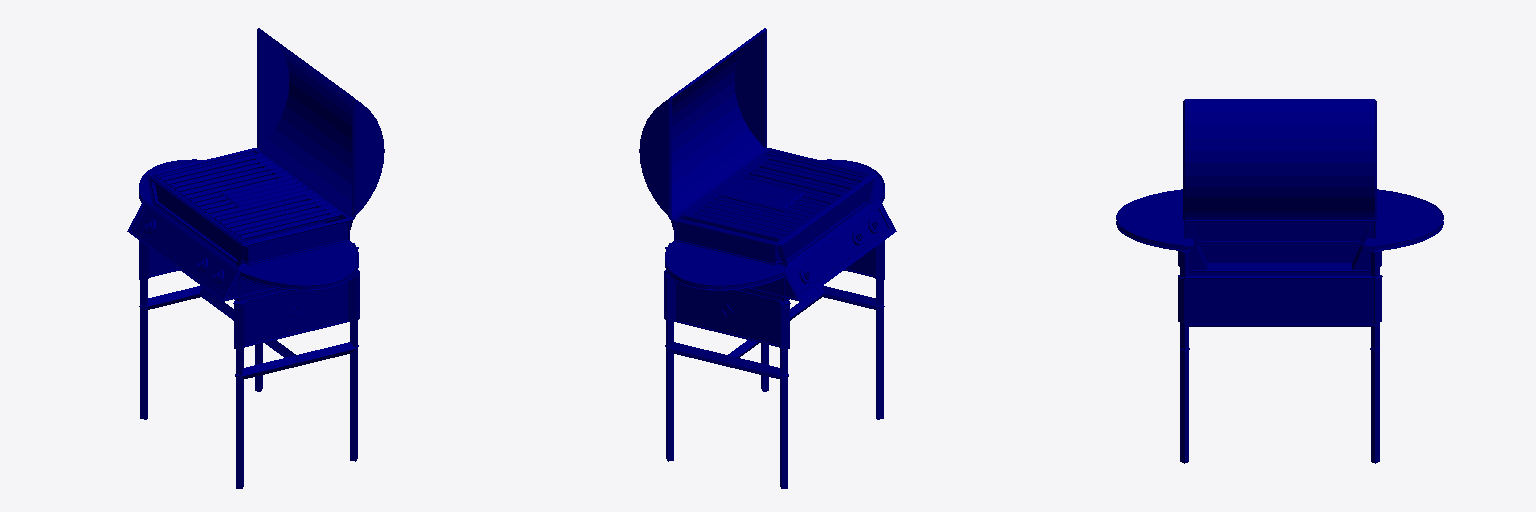
File: Barbeque.obj
The picture shows the model from 3 angles: view 1: azimuth 30°, elevation 25°; view 2: azimuth 150°, elevation 25°; view 3: azimuth 270°, elevation 25°; orthographic projection.
Parts seen in each view (by area): view 1: Mesh305 Barbeque1 Barbeque_1_1 Model, Mesh306 Barbeque1 Barbeque_1_1 Model, Mesh307 Barbeque1 Barbeque_1_1 Model, Mesh1 Group1 Barbeque1 Barbeque_1_1 Model, Mesh308 Barbeque1 Barbeque_1_1 Model, Mesh2 Group1 Barbeque1 Barbeque_1_1 Model; view 2: Mesh305 Barbeque1 Barbeque_1_1 Model, Mesh306 Barbeque1 Barbeque_1_1 Model, Mesh308 Barbeque1 Barbeque_1_1 Model, Mesh307 Barbeque1 Barbeque_1_1 Model, Mesh1 Group1 Barbeque1 Barbeque_1_1 Model, Mesh2 Group1 Barbeque1 Barbeque_1_1 Model; view 3: Mesh305 Barbeque1 Barbeque_1_1 Model, Mesh306 Barbeque1 Barbeque_1_1 Model, Mesh46 Group5 Barbeque1 Barbeque_1_1 Model.
Boxes of the visible parts, x1,y1,x2,y2 form: Mesh305 Barbeque1 Barbeque_1_1 Model: [131, 32, 384, 349]; Mesh306 Barbeque1 Barbeque_1_1 Model: [147, 286, 357, 461]; Mesh307 Barbeque1 Barbeque_1_1 Model: [140, 280, 147, 419]; Mesh1 Group1 Barbeque1 Barbeque_1_1 Model: [147, 174, 353, 266]; Mesh308 Barbeque1 Barbeque_1_1 Model: [236, 349, 243, 488]; Mesh2 Group1 Barbeque1 Barbeque_1_1 Model: [149, 148, 351, 216]; Mesh305 Barbeque1 Barbeque_1_1 Model: [639, 32, 892, 349]; Mesh306 Barbeque1 Barbeque_1_1 Model: [666, 286, 876, 461]; Mesh308 Barbeque1 Barbeque_1_1 Model: [876, 280, 883, 419]; Mesh307 Barbeque1 Barbeque_1_1 Model: [780, 349, 787, 488]; Mesh1 Group1 Barbeque1 Barbeque_1_1 Model: [766, 148, 876, 266]; Mesh2 Group1 Barbeque1 Barbeque_1_1 Model: [670, 148, 779, 245]; Mesh305 Barbeque1 Barbeque_1_1 Model: [1117, 102, 1442, 323]; Mesh306 Barbeque1 Barbeque_1_1 Model: [1180, 323, 1379, 463]; Mesh46 Group5 Barbeque1 Barbeque_1_1 Model: [1185, 99, 1374, 101].
Bounding box in the file's own units: 1004 × 2147 × 1763.